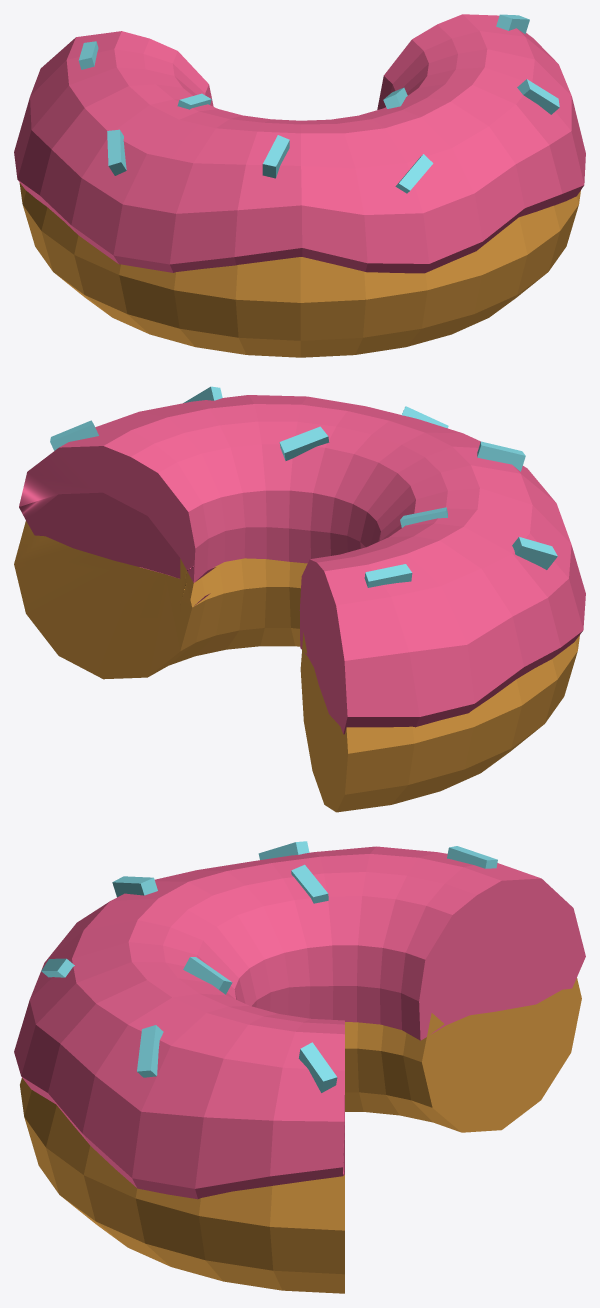
The model's file is donut60.fbx.
3 renders of one model, top to bottom at view 1: azimuth 30°, elevation 25°; view 2: azimuth 150°, elevation 25°; view 3: azimuth 270°, elevation 25°, orthographic. The views are drawn at different scales.
Visible parts, largest first — view 1: Donut_01; view 2: Donut_01; view 3: Donut_01.
Boxes of the visible parts, <box> form: Donut_01: <box>14,14,585,357</box>; Donut_01: <box>14,386,585,812</box>; Donut_01: <box>14,841,585,1293</box>.
Size of the model in its own units: 985 by 425 by 862.
